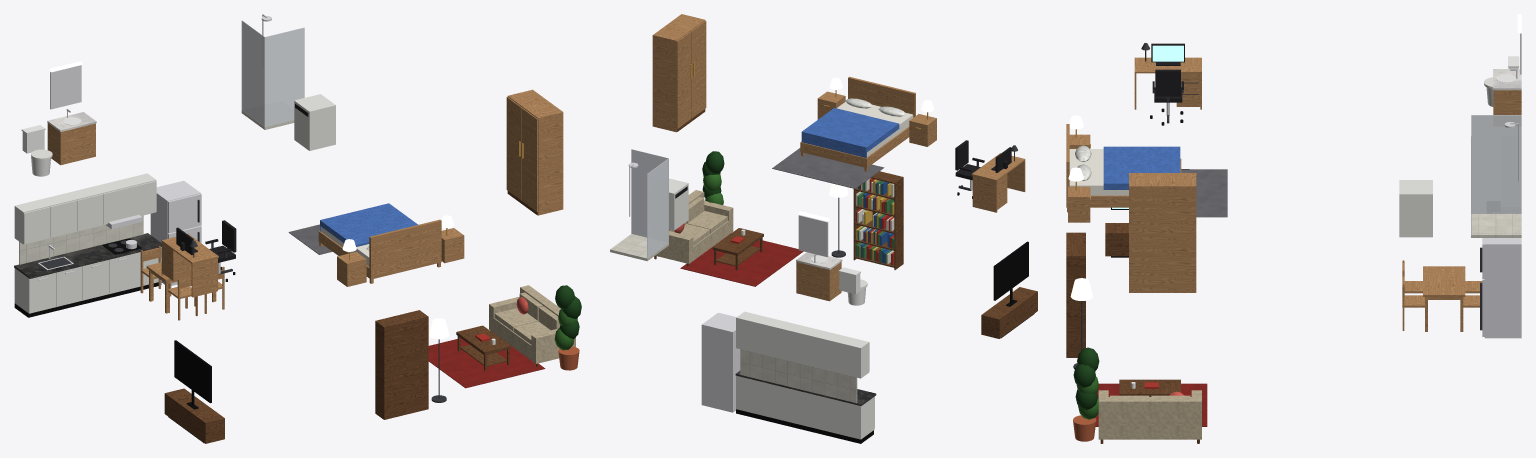
Rendered from i_english_cottage.gltf.
3 views of the same model, side by side, from view 1: azimuth 30°, elevation 25°; view 2: azimuth 150°, elevation 25°; view 3: azimuth 270°, elevation 25° (orthographic). The views are drawn at different scales.
Visible parts, largest first — view 1: I_english_cottage; view 2: I_english_cottage; view 3: I_english_cottage.
Boxes of the visible parts, x1,y1,x2,y2 form: I_english_cottage: [14, 14, 581, 443]; I_english_cottage: [610, 14, 1037, 443]; I_english_cottage: [1066, 14, 1521, 443].
Bounding box in the file's own units: 8.36 × 5.1 × 8.11.
33 materials, 12 textured.
